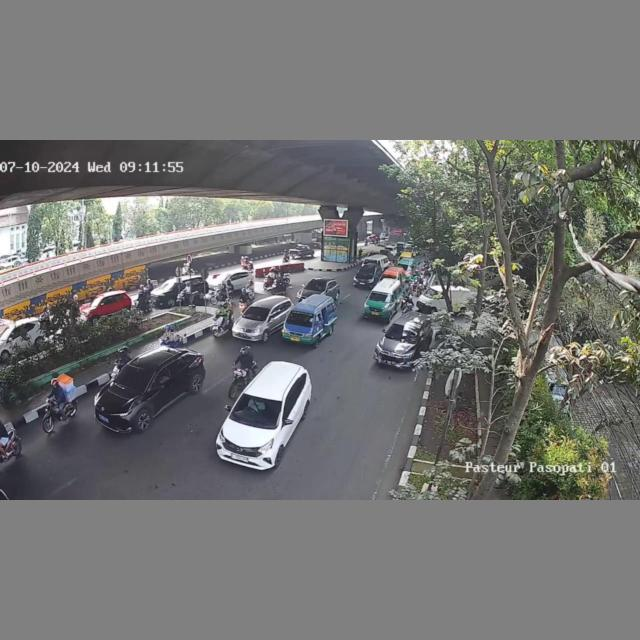windshield: (232, 393, 283, 426), (114, 364, 153, 394), (384, 323, 420, 344), (241, 306, 269, 322), (286, 310, 313, 326), (368, 289, 393, 303), (304, 281, 327, 292)
